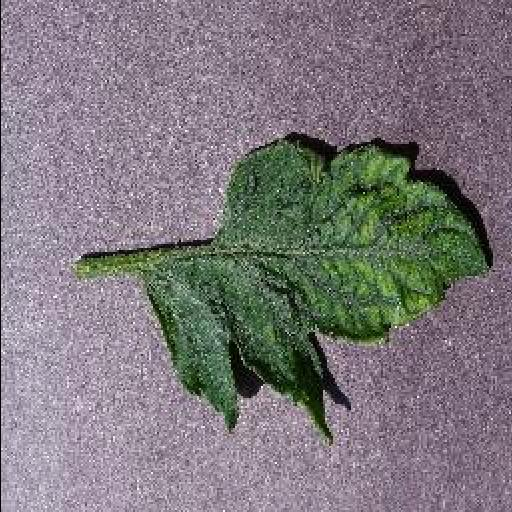Mosaic Virus: (146, 134, 488, 448)
